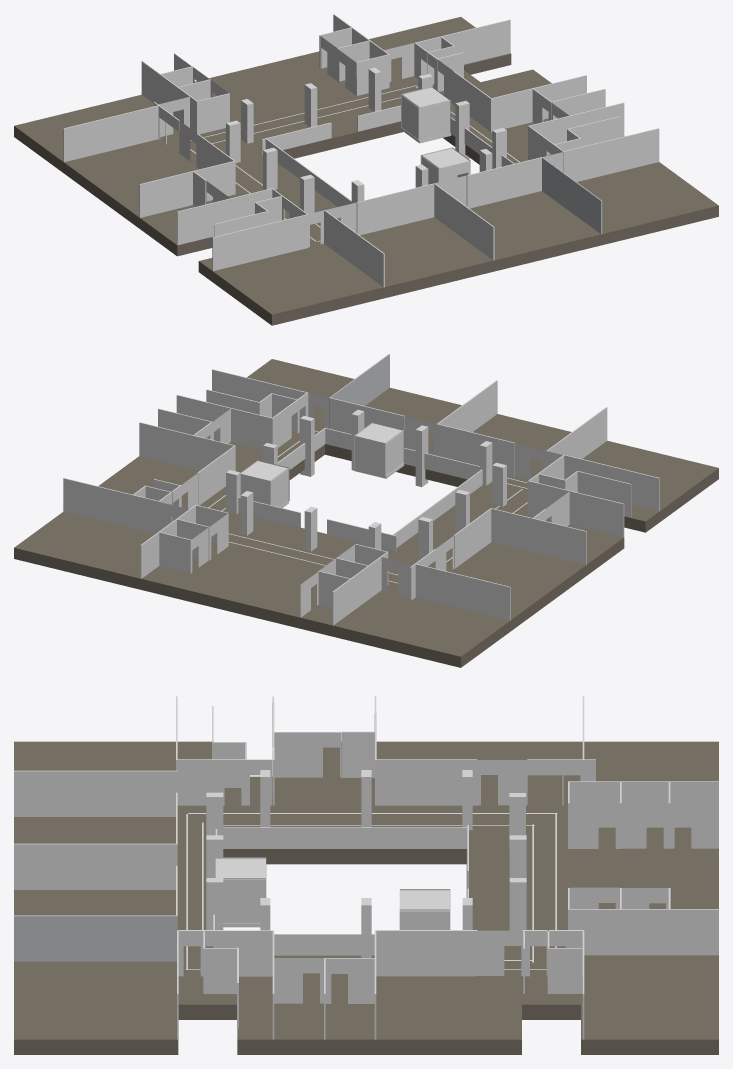
File: floorplanversion03.fbx
3 views of the same model, one above another, from view 1: azimuth 30°, elevation 25°; view 2: azimuth 150°, elevation 25°; view 3: azimuth 270°, elevation 25° (orthographic). The views are drawn at different scales.
Visible parts, largest first — view 1: Cube, Cube.034, Cube.006, Cube.029, Cube.040, Cube.036, Cube.037, Cube.044, Cube.021, Cube.004, Cube.032, Cube.033 (+37 smaller); view 2: Cube, Cube.040, Cube.006, Cube.004, Cube.044, Cube.021, Cube.025, Cube.036, Cube.034, Cube.007, Cube.029, Cube.032 (+42 smaller); view 3: Cube, Cube.031, Cube.032, Cube.033, Cube.002, Cube.053, Cube.020, Cube.045, Cube.007, Plane.009, Cube.038, Cube.054 (+34 smaller).
Boxes of the visible parts, bbox=[...] form: Cube: bbox=[14, 17, 718, 325]; Cube.034: bbox=[212, 214, 308, 270]; Cube.006: bbox=[63, 105, 159, 162]; Cube.029: bbox=[563, 128, 659, 181]; Cube.040: bbox=[139, 161, 235, 217]; Cube.036: bbox=[356, 183, 434, 235]; Cube.037: bbox=[466, 157, 541, 208]; Cube.044: bbox=[177, 188, 272, 245]; Cube.021: bbox=[490, 75, 586, 132]; Cube.004: bbox=[414, 19, 510, 76]; Cube.032: bbox=[434, 183, 494, 260]; Cube.033: bbox=[324, 210, 384, 287]; Cube: bbox=[14, 359, 718, 667]; Cube.040: bbox=[490, 508, 586, 564]; Cube.006: bbox=[415, 563, 510, 620]; Cube.004: bbox=[63, 478, 159, 533]; Cube.044: bbox=[527, 480, 624, 537]; Cube.021: bbox=[139, 422, 235, 470]; Cube.025: bbox=[176, 395, 273, 449]; Cube.036: bbox=[437, 424, 514, 476]; Cube.034: bbox=[564, 454, 659, 511]; Cube.007: bbox=[332, 551, 388, 625]; Cube.029: bbox=[212, 369, 308, 423]; Cube.032: bbox=[436, 380, 497, 455]; Cube: bbox=[14, 741, 718, 1054]; Cube.031: bbox=[14, 915, 177, 961]; Cube.032: bbox=[14, 843, 177, 889]; Cube.033: bbox=[14, 770, 177, 816]; Cube.002: bbox=[568, 909, 718, 955]; Cube.053: bbox=[223, 827, 467, 848]; Cube.020: bbox=[376, 930, 477, 976]; Cube.045: bbox=[376, 759, 477, 805]; Cube.007: bbox=[568, 781, 718, 827]; Plane.009: bbox=[274, 732, 340, 777]; Cube.038: bbox=[177, 759, 224, 805]; Cube.054: bbox=[213, 934, 374, 955].
Size of the model in its own units: 8401 by 1004 by 8401.
